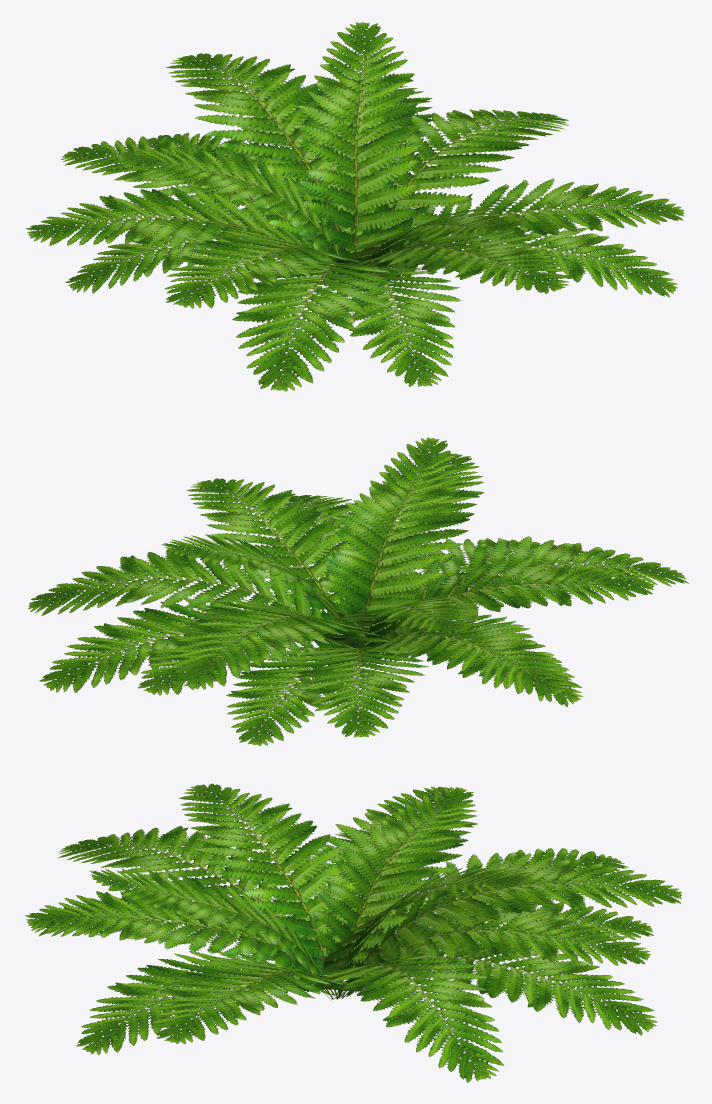
The model's file is fern02.glb.
The picture shows the model from 3 angles, top to bottom: view 1: azimuth 30°, elevation 25°; view 2: azimuth 150°, elevation 25°; view 3: azimuth 270°, elevation 25°; orthographic projection. The views are drawn at different scales.
Visible parts, largest first — view 1: Temperate_Forest_Fern_Cluster_1; view 2: Temperate_Forest_Fern_Cluster_1; view 3: Temperate_Forest_Fern_Cluster_1.
Boxes of the visible parts, bbox=[...] form: Temperate_Forest_Fern_Cluster_1: bbox=[26, 22, 684, 391]; Temperate_Forest_Fern_Cluster_1: bbox=[28, 437, 688, 745]; Temperate_Forest_Fern_Cluster_1: bbox=[25, 783, 681, 1082].
Size of the model in its own units: 1.02 by 0.2964 by 1.06.
Materials: 1 (1 with a texture image).
